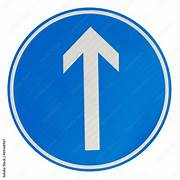forward: (7, 7, 172, 171)
